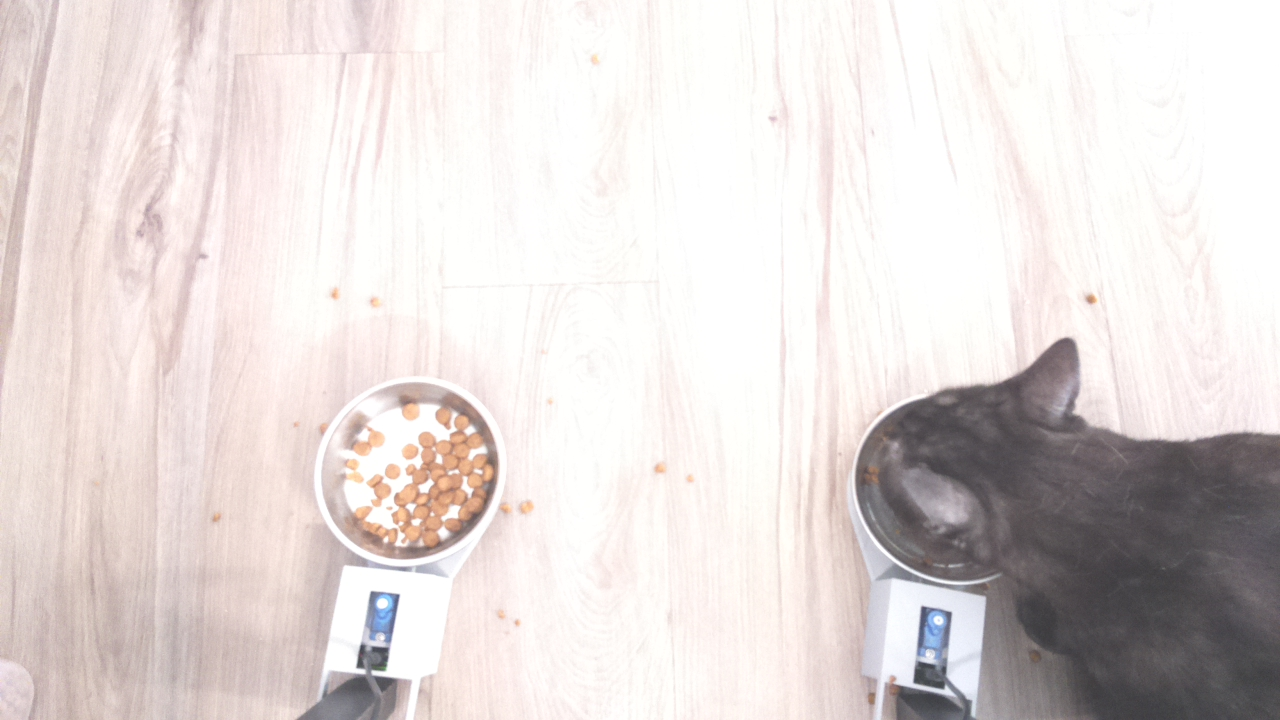open_bowl: (311, 379, 513, 571)
saki_eating: (845, 326, 1139, 604)
